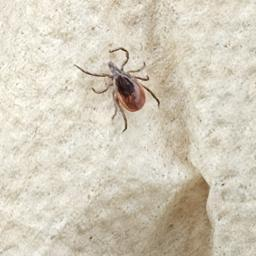Ixodes scapularis: (72, 47, 163, 132)
